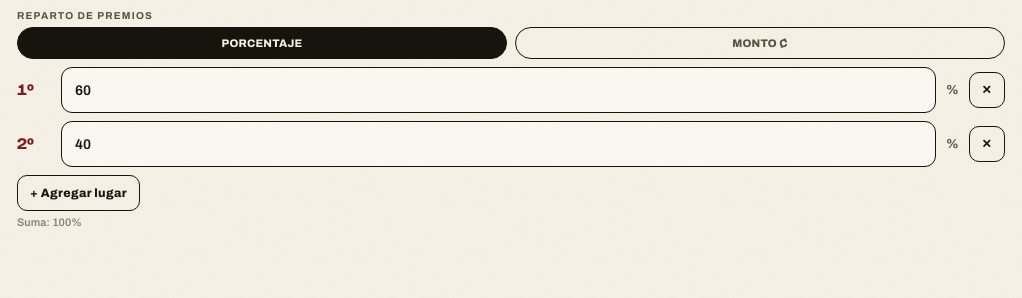
Scenario: PrizeDistributionEditor — interactions › adds a place with "Agregar lugar" and removes one with the row ✕
Click the button "+ Agregar lugar": (78, 193) [17,175,140,211]
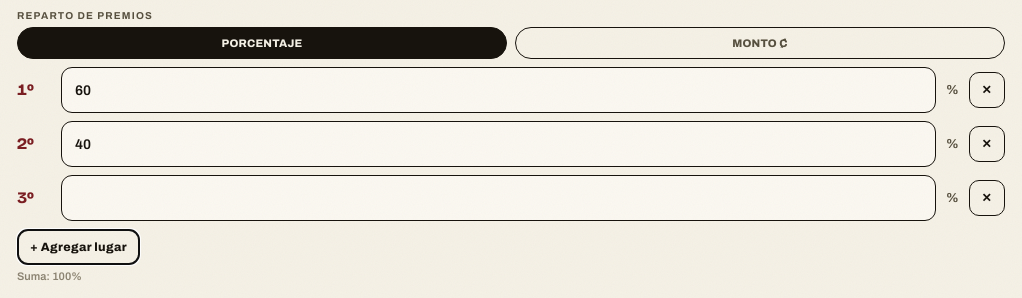
expect the number of fields is 3: met, box [61,67,936,113]; [61,121,936,167]; [61,175,936,221]
Click the button named "Quitar 3º lugar": (987, 198) [969,180,1005,216]
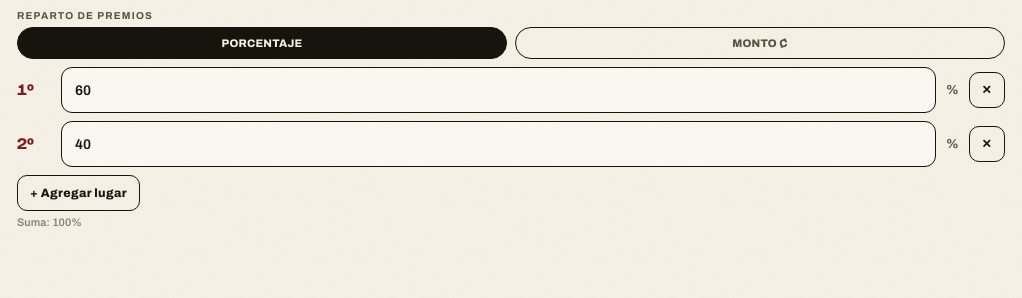
expect the number of fields is 2: met, box [61,67,936,113]; [61,121,936,167]
